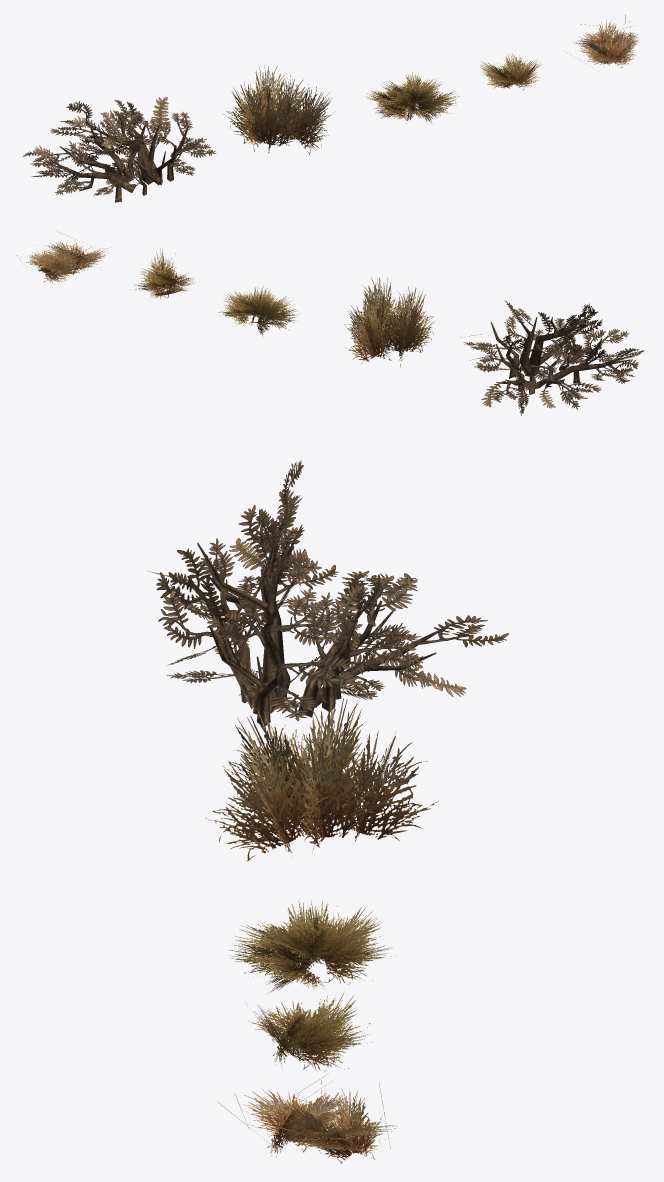
The model's file is s7_sandgrassA.FBX.
3 views of the same model, one above another, from view 1: azimuth 30°, elevation 25°; view 2: azimuth 150°, elevation 25°; view 3: azimuth 270°, elevation 25° (orthographic). The views are drawn at different scales.
Visible parts, largest first — view 1: s7_pve_fight_hay_03, s7_pve_fight_hay_01, Object001, Object002, s7_pve_fight_hay_02; view 2: s7_pve_fight_hay_03, s7_pve_fight_hay_01, Object001, Object002, s7_pve_fight_hay_02; view 3: s7_pve_fight_hay_03, s7_pve_fight_hay_01, Object001, Object002, s7_pve_fight_hay_02.
Part boxes in pixels (left/top/right/bottom): s7_pve_fight_hay_03: left=22, top=97, right=216, bottom=202; s7_pve_fight_hay_01: left=223, top=65, right=333, bottom=154; Object001: left=365, top=72, right=459, bottom=124; Object002: left=566, top=14, right=639, bottom=68; s7_pve_fight_hay_02: left=480, top=53, right=541, bottom=90; s7_pve_fight_hay_03: left=461, top=300, right=644, bottom=415; s7_pve_fight_hay_01: left=344, top=277, right=435, bottom=367; Object001: left=218, top=285, right=298, bottom=337; Object002: left=16, top=237, right=107, bottom=283; s7_pve_fight_hay_02: left=134, top=248, right=195, bottom=299; s7_pve_fight_hay_03: left=148, top=460, right=508, bottom=727; s7_pve_fight_hay_01: left=205, top=696, right=438, bottom=861; Object001: left=228, top=899, right=395, bottom=993; Object002: left=218, top=1074, right=397, bottom=1163; s7_pve_fight_hay_02: left=246, top=991, right=371, bottom=1071.
Size of the model in its own units: 7.27 by 1.24 by 2.02.
